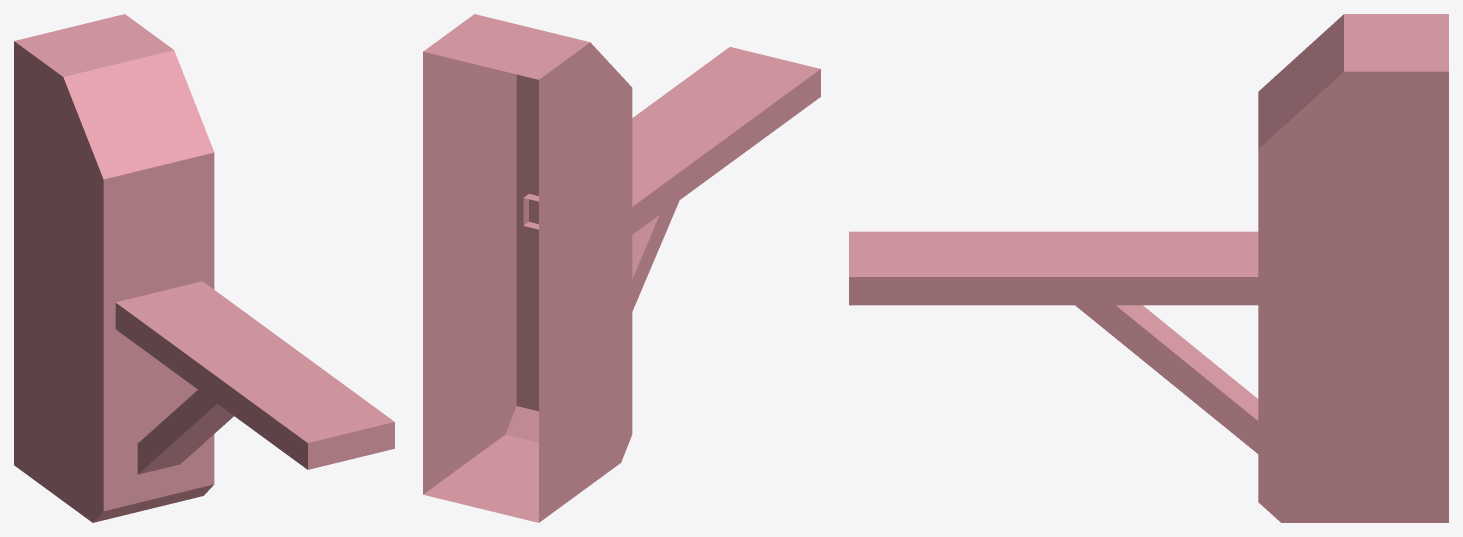
Rendered from SM_Tuyau_Support.fbx.
3 views of the same model, side by side, from view 1: azimuth 30°, elevation 25°; view 2: azimuth 150°, elevation 25°; view 3: azimuth 270°, elevation 25° (orthographic). The views are drawn at different scales.
Parts seen in each view (by area): view 1: Tuyau_Support; view 2: Tuyau_Support; view 3: Tuyau_Support.
Boxes of the visible parts, x1,y1,x2,y2 form: Tuyau_Support: (14, 14, 394, 522); Tuyau_Support: (423, 14, 820, 522); Tuyau_Support: (849, 14, 1448, 522).
Bounding box in the file's own units: 2.57 × 9.4 × 11.32.
